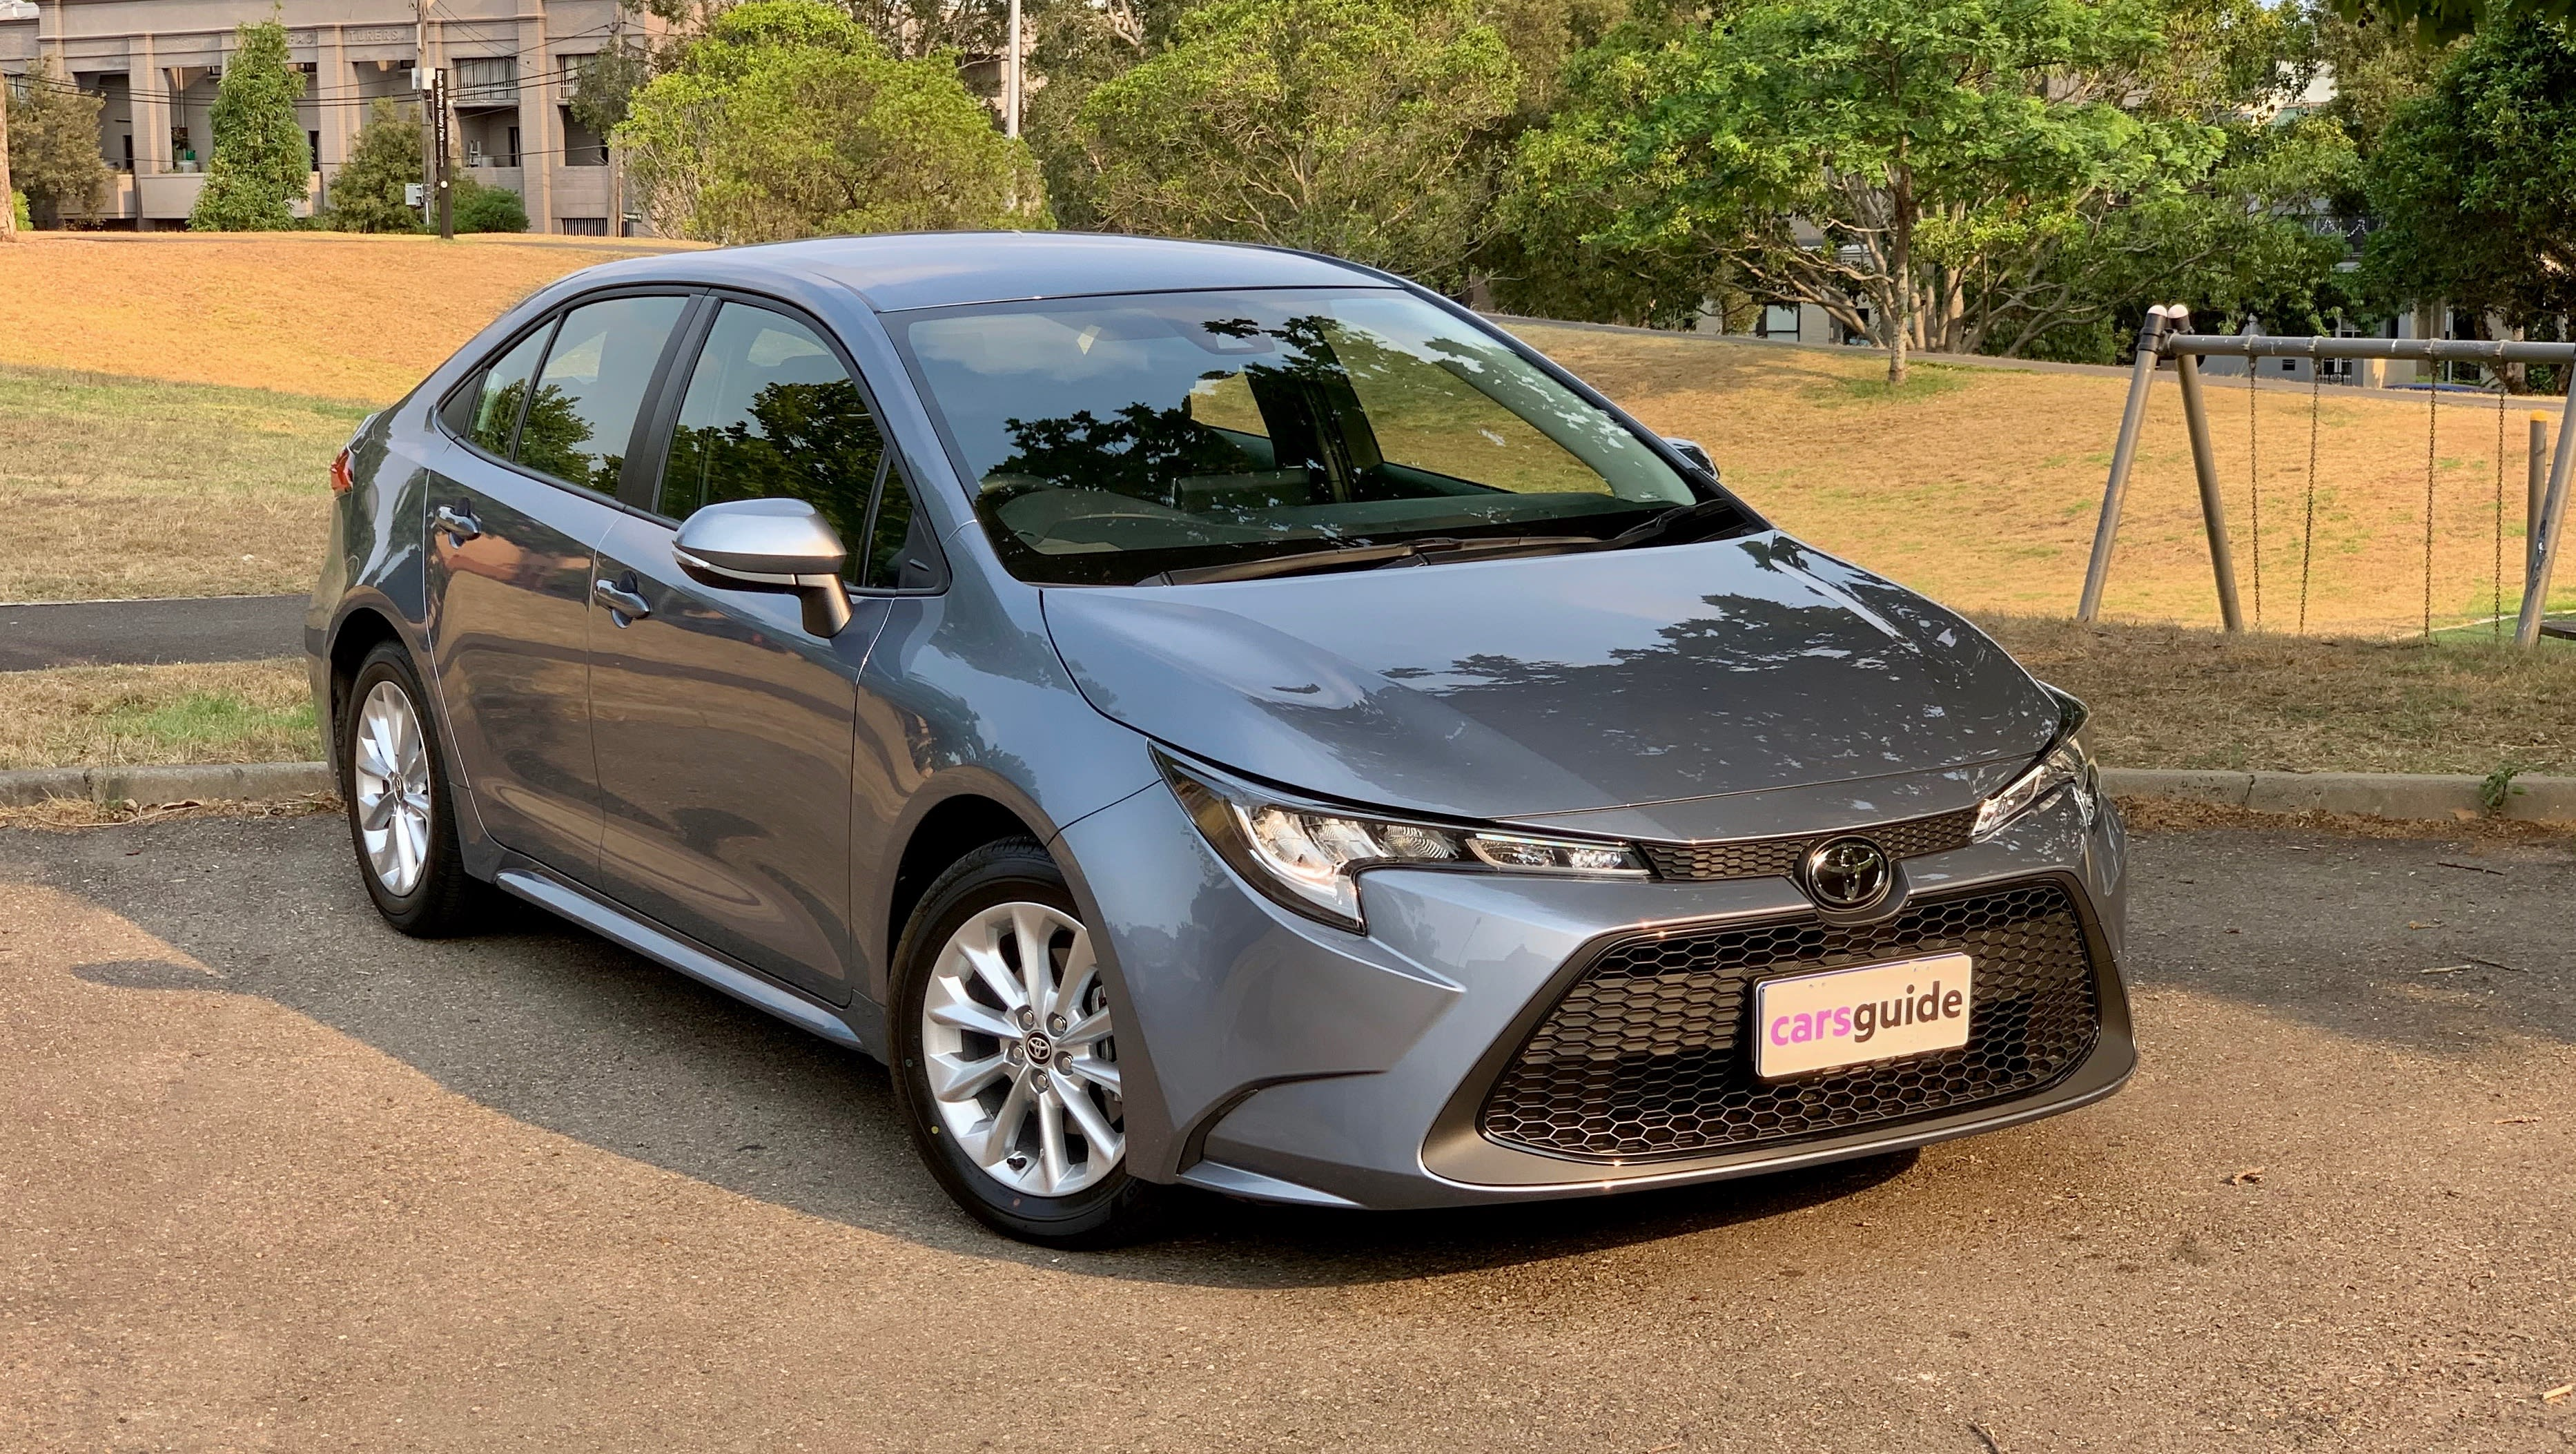car: (306, 230, 2136, 1252)
